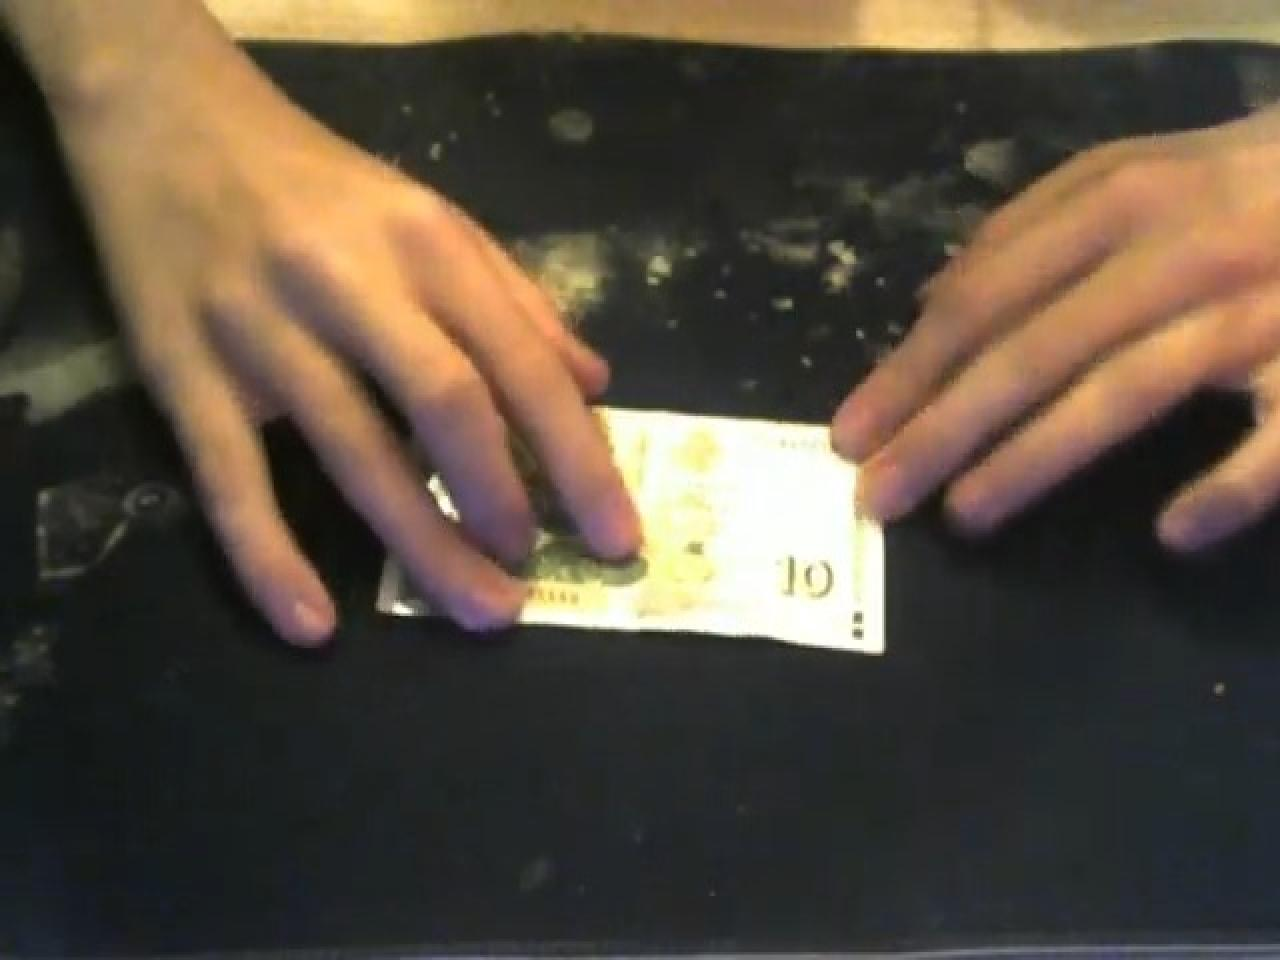10leva: (526, 408, 886, 658)
